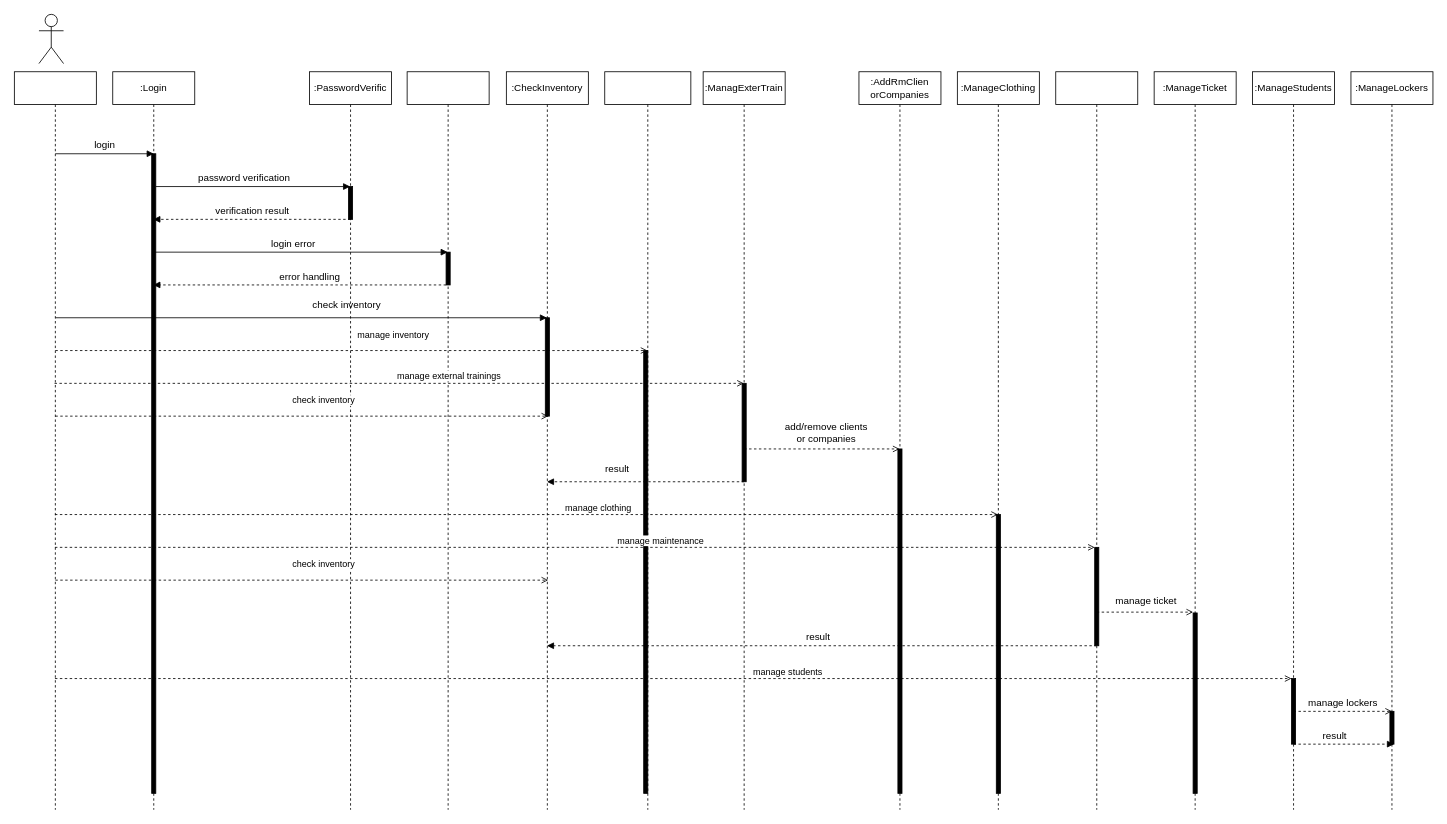
Image size: 1447x824. Some labels were removed from this diagram. The box of each missing label's shape, as (x1, y1, x2, y2) in pixels:
:LoginError: (406, 71, 489, 810)
:Manage Maintenance: (1055, 71, 1138, 810)
:ManageInventory: (604, 71, 691, 810)
TechnicianAdmin: (14, 71, 96, 810)
